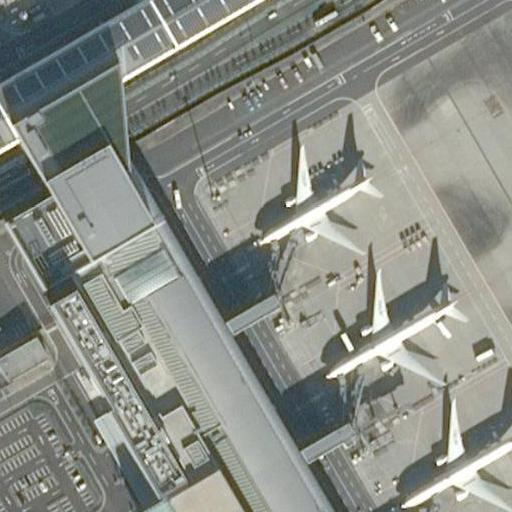Aircraft: (322, 258, 458, 396), (241, 122, 381, 256), (389, 393, 512, 512)
